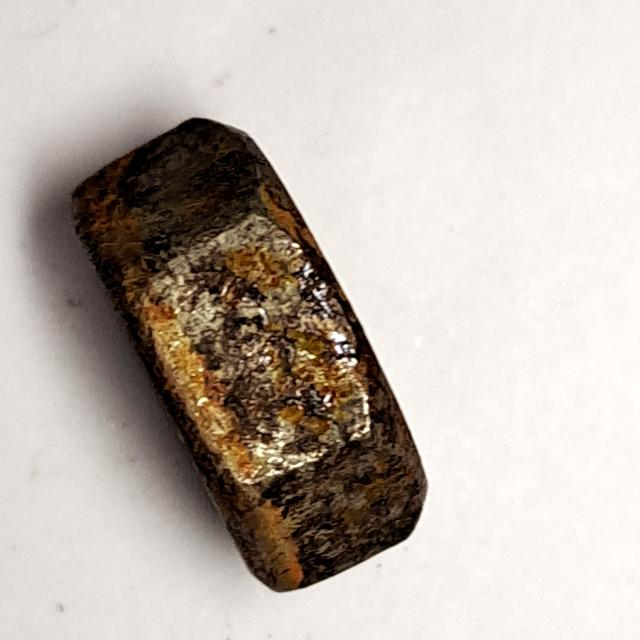Side_Rust: (55, 107, 446, 605)
